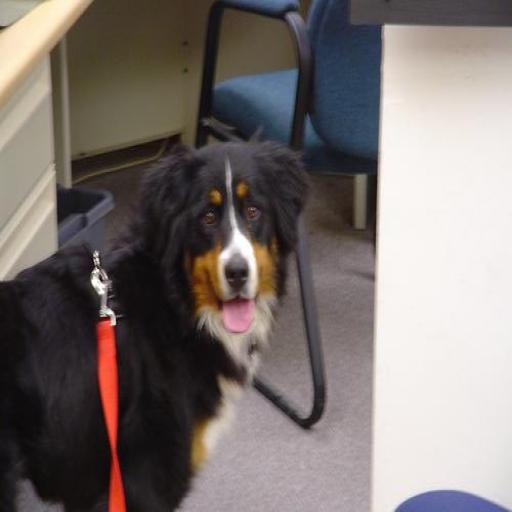dog_face: (163, 145, 315, 322)
